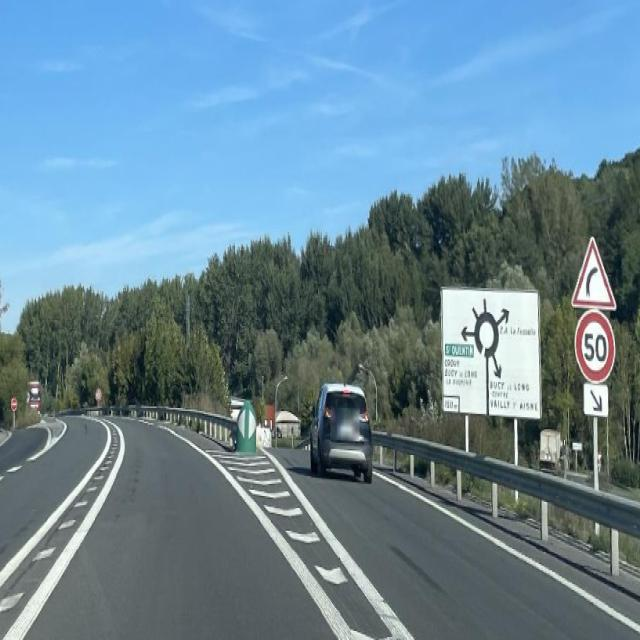speed_50: (576, 311, 615, 382)
